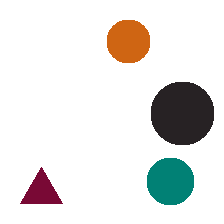circle: (151, 82, 213, 144), (147, 158, 193, 204), (107, 20, 149, 62)
triangle: (20, 167, 62, 203)
